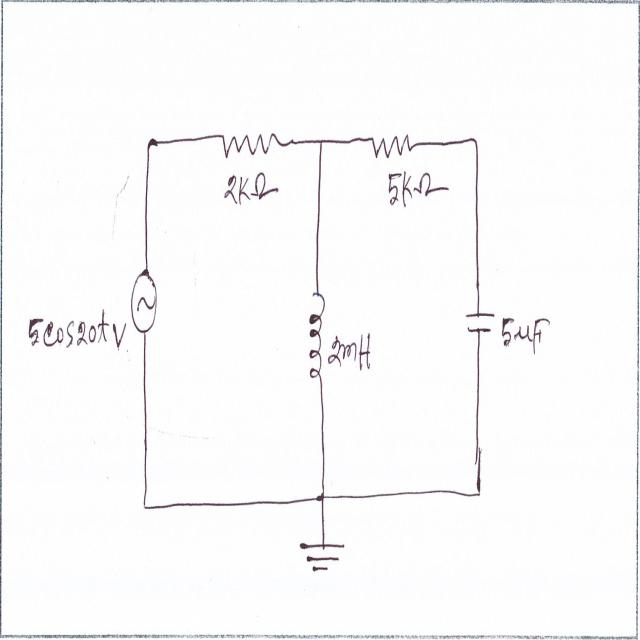ac_current: (130, 269, 160, 345)
capacitor: (465, 304, 497, 345)
ground: (295, 533, 348, 583)
inductor: (308, 279, 326, 390)
resistor: (222, 127, 288, 168), (368, 120, 417, 164)
